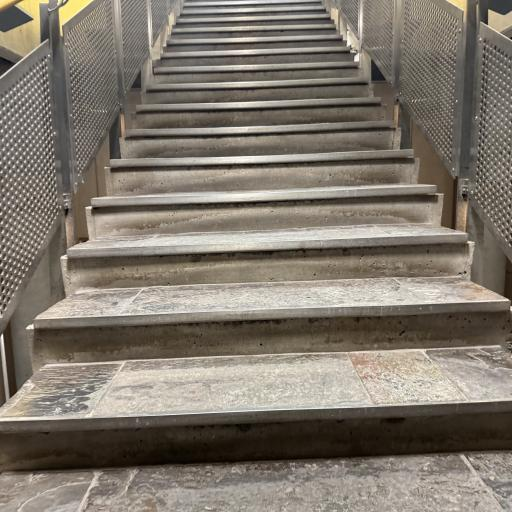Stairs: (0, 0, 512, 510), (0, 346, 512, 493)
